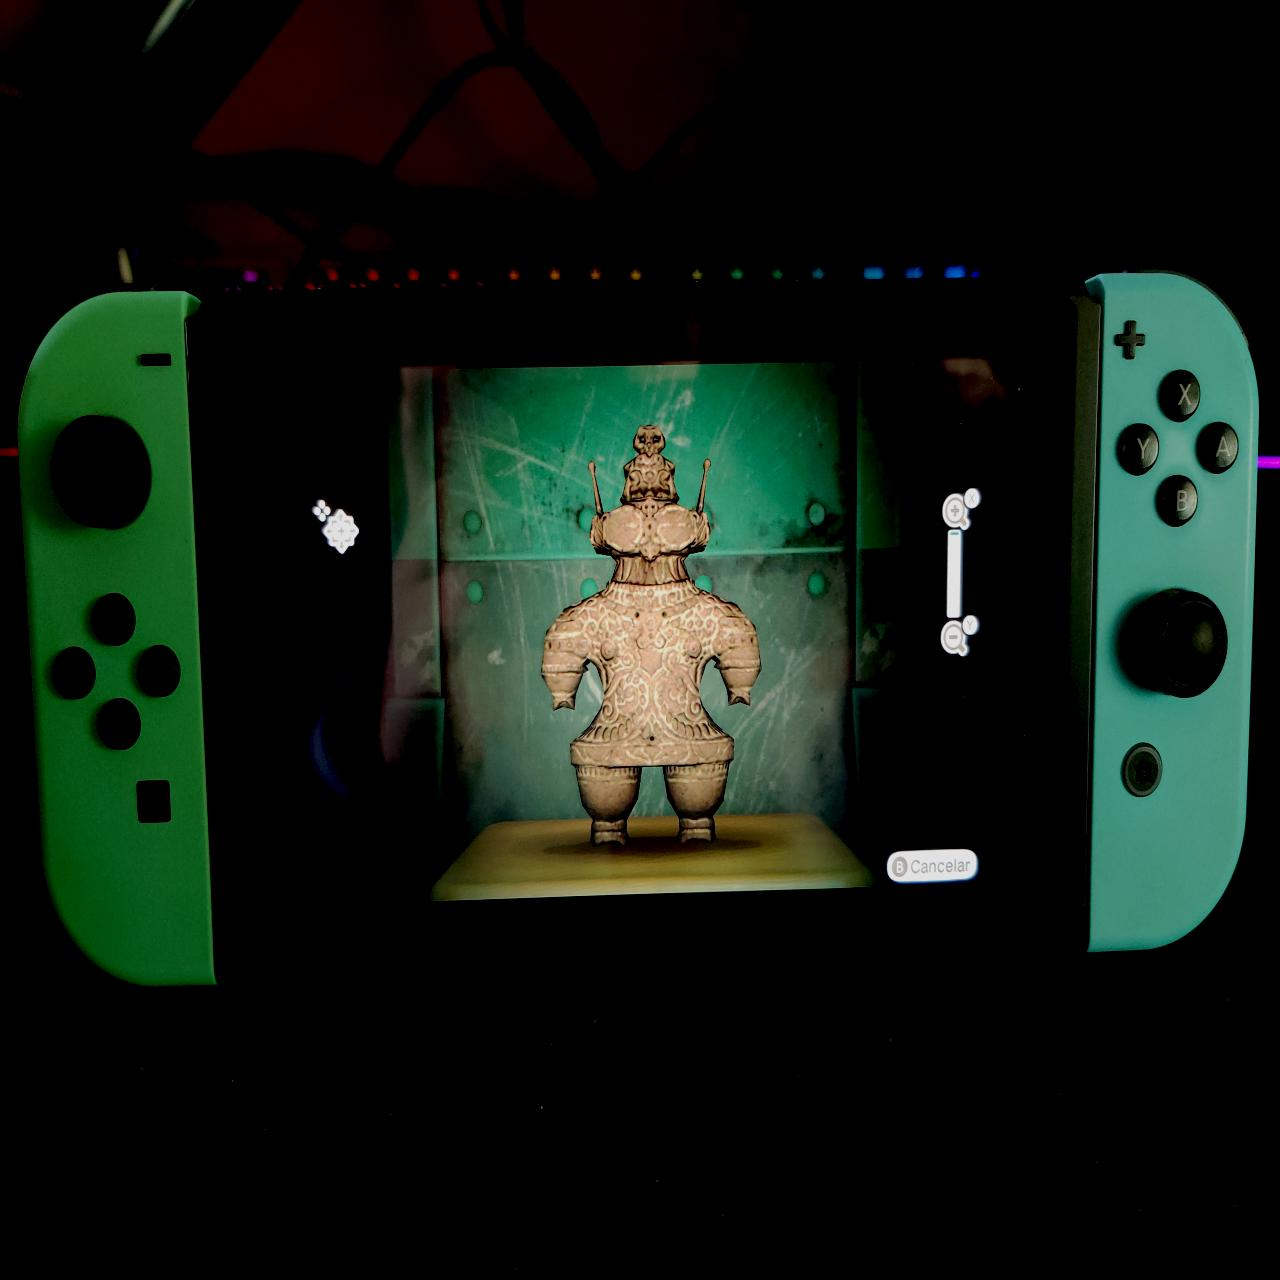DoguuFake: (535, 411, 770, 859)
